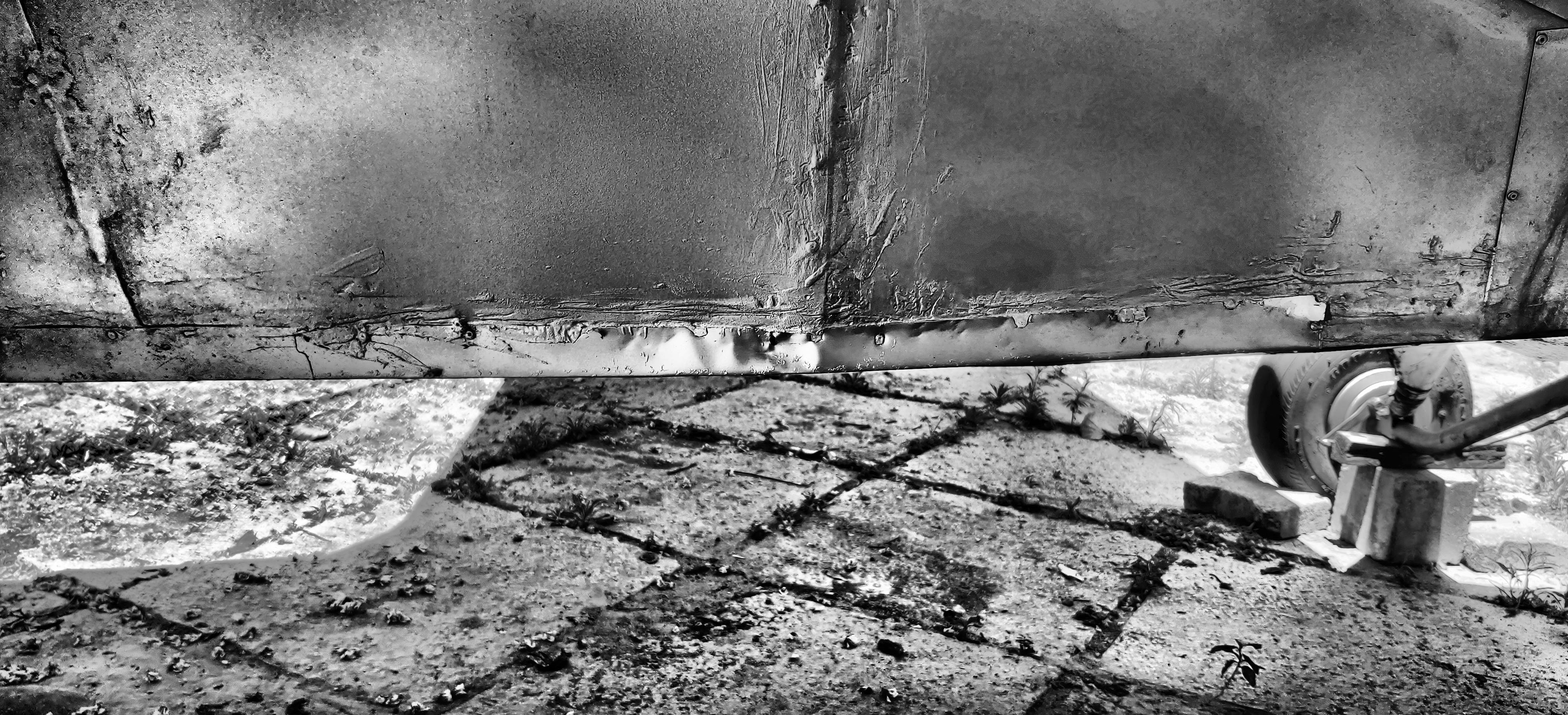dent: (729, 326, 822, 374), (661, 326, 716, 377), (1278, 290, 1330, 324), (906, 319, 967, 338), (619, 326, 641, 353)
missing-head: (768, 332, 779, 346), (599, 330, 608, 339), (1446, 299, 1454, 308), (1409, 295, 1417, 304)
paint-peel-off: (48, 28, 86, 114)
scratch: (1171, 267, 1379, 296), (369, 339, 434, 371), (1443, 245, 1494, 268), (976, 298, 1047, 311), (1321, 210, 1340, 239), (1422, 236, 1439, 261)
